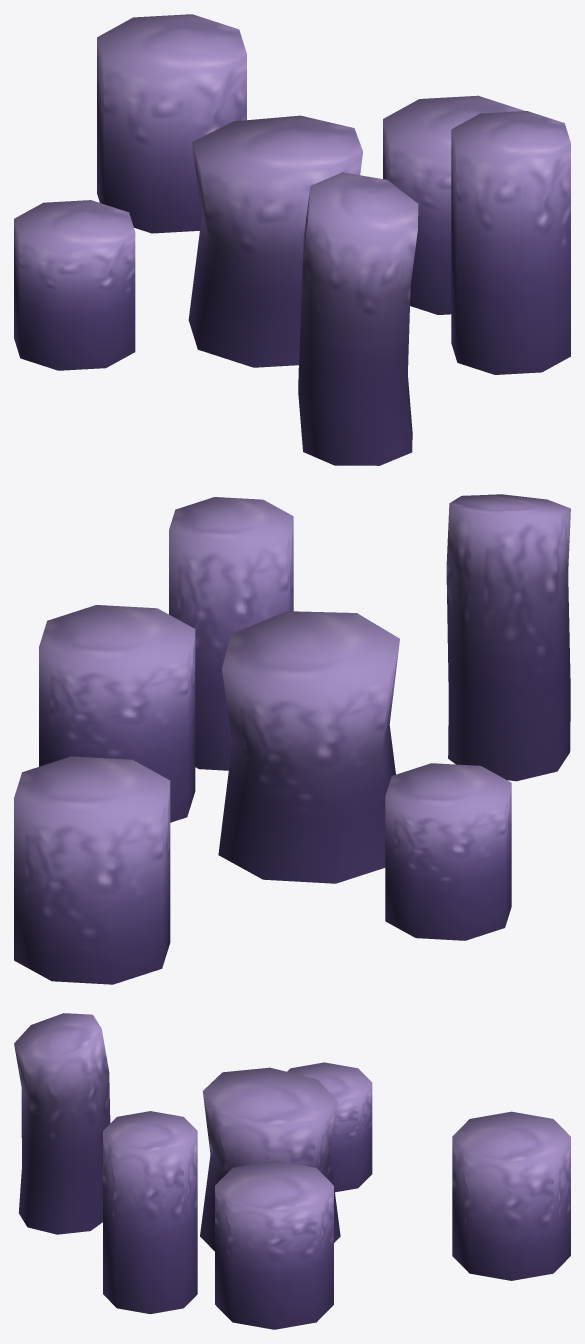
File: SleepingGarden_Candle01.fbx
3 renders of one model, top to bottom at view 1: azimuth 30°, elevation 25°; view 2: azimuth 150°, elevation 25°; view 3: azimuth 270°, elevation 25°, orthographic. The views are drawn at different scales.
Parts seen in each view (by area): view 1: SleepingGarden_Candle01; view 2: SleepingGarden_Candle01; view 3: SleepingGarden_Candle01.
Boxes of the visible parts, x1,y1,x2,y2 form: SleepingGarden_Candle01: (14, 14, 570, 465); SleepingGarden_Candle01: (14, 494, 570, 984); SleepingGarden_Candle01: (14, 1013, 570, 1329).
Bounding box in the file's own units: 0.7862 × 0.3968 × 1.05.
Materials: 1 (1 with a texture image).
